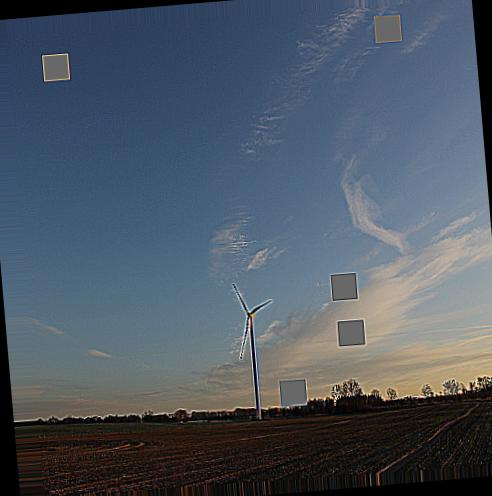wind turbine: (230, 282, 276, 422)
